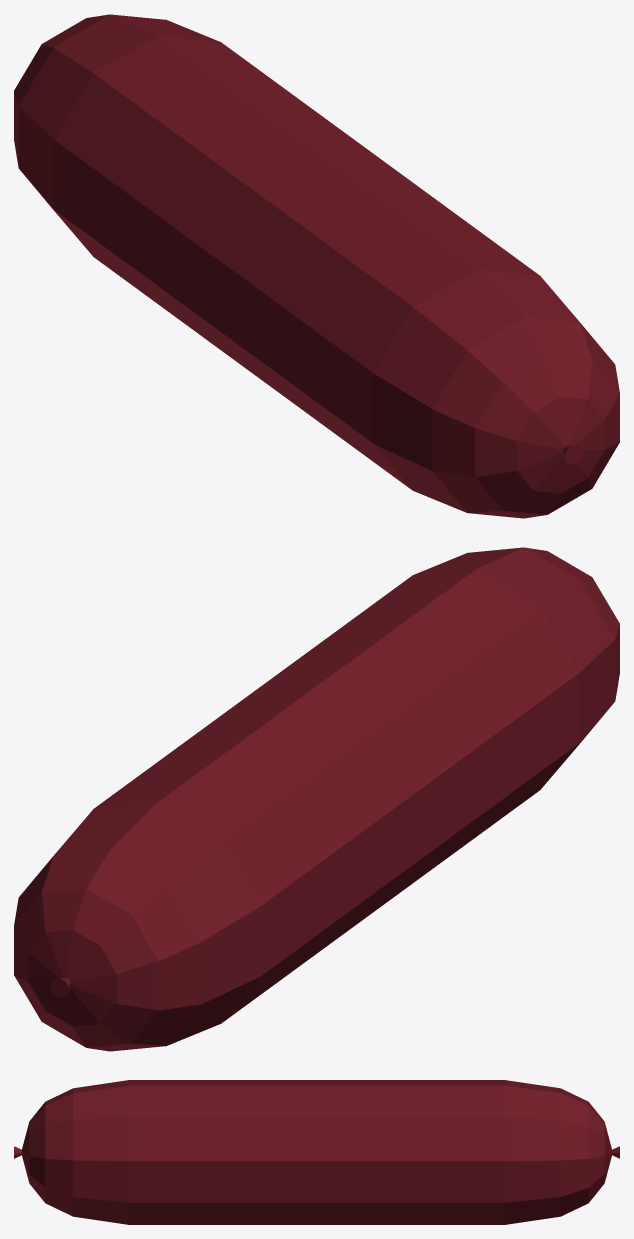
The model's file is Sausage.fbx.
3 renders of one model, top to bottom at view 1: azimuth 30°, elevation 25°; view 2: azimuth 150°, elevation 25°; view 3: azimuth 270°, elevation 25°, orthographic. The views are drawn at different scales.
Parts seen in each view (by area): view 1: Cylinder.002; view 2: Cylinder.002; view 3: Cylinder.002.
Boxes of the visible parts, <box> form: Cylinder.002: <box>14,14,619,518</box>; Cylinder.002: <box>14,547,619,1051</box>; Cylinder.002: <box>14,1080,619,1224</box>.
Bounding box in the file's own units: 29.07 × 30.56 × 125.
